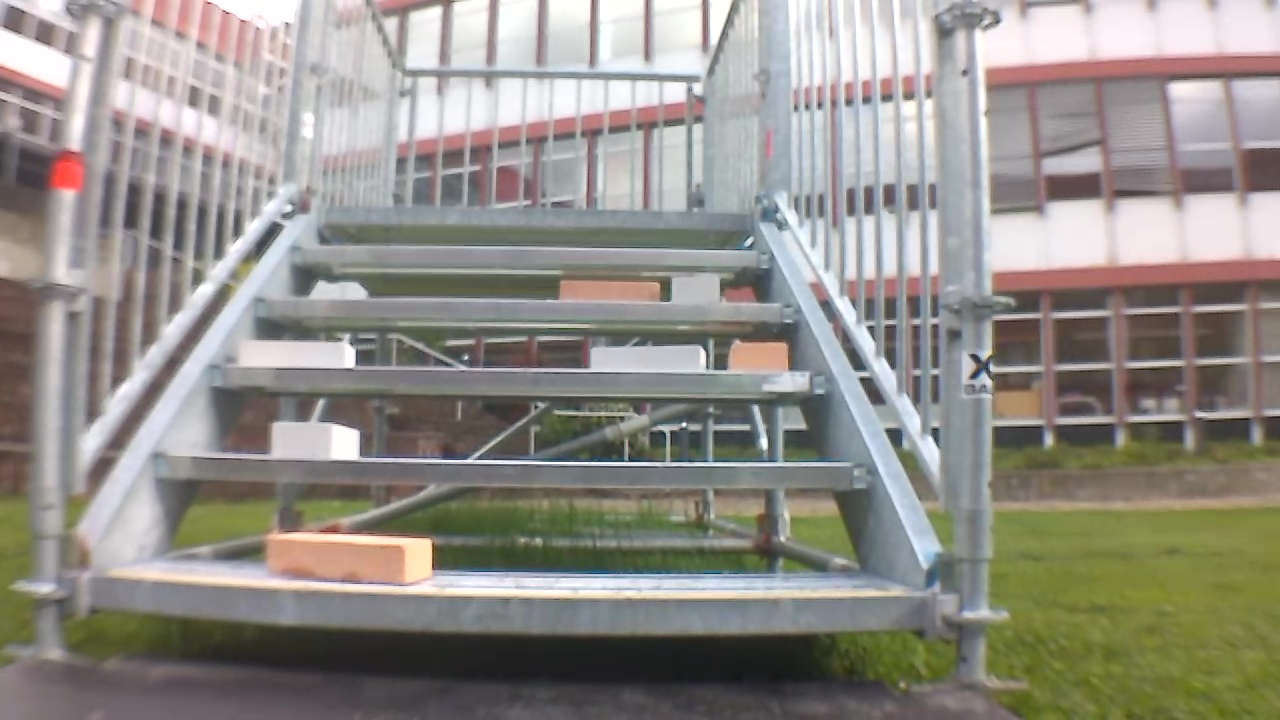brick: (265, 535, 430, 585), (588, 346, 705, 371), (273, 424, 358, 458), (240, 341, 354, 366), (561, 281, 658, 299), (734, 343, 789, 372), (673, 277, 719, 301)
edge: (89, 577, 926, 632), (151, 455, 877, 488), (211, 365, 828, 393), (254, 297, 798, 321), (316, 206, 750, 230), (290, 246, 773, 266)
stairs: (15, 4, 1015, 682)
steps: (79, 193, 935, 649)
